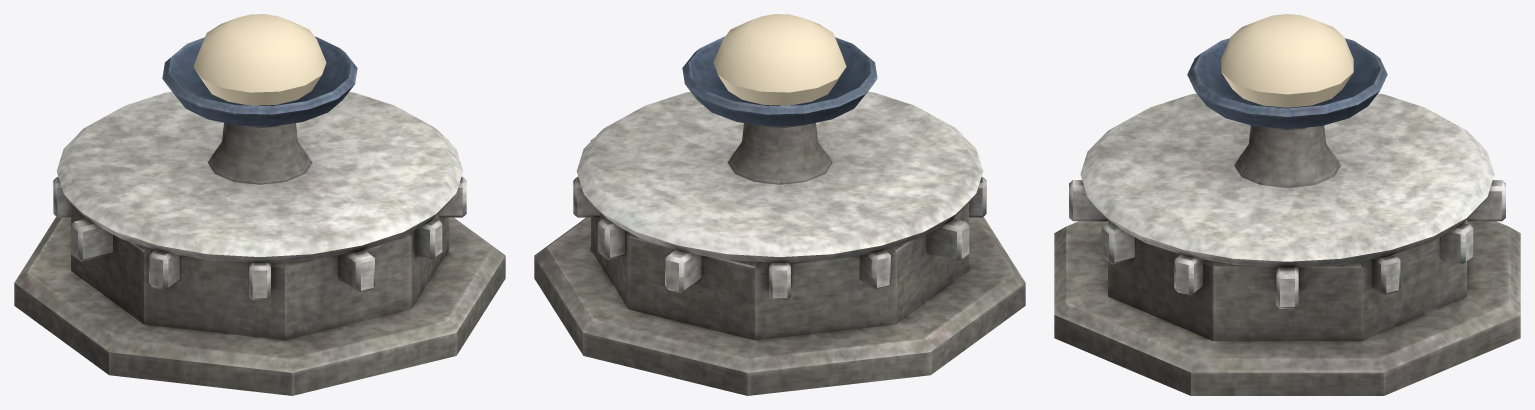
The model's file is hour_lamp.glb.
The picture shows the model from 3 angles, left to right: view 1: azimuth 30°, elevation 25°; view 2: azimuth 150°, elevation 25°; view 3: azimuth 270°, elevation 25°; orthographic projection.
Visible parts, largest first — view 1: hour_lamp_body, hour_lamp_lamp; view 2: hour_lamp_body, hour_lamp_lamp; view 3: hour_lamp_body, hour_lamp_lamp.
Boxes of the visible parts, x1,y1,x2,y2 form: hour_lamp_body: (14,36,505,395); hour_lamp_lamp: (193,14,326,105); hour_lamp_body: (534,36,1025,395); hour_lamp_lamp: (713,14,846,105); hour_lamp_body: (1054,38,1520,395); hour_lamp_lamp: (1221,14,1353,107).
Size of the model in its own units: 1.44 by 0.93 by 1.44.
2 materials, 1 textured.
